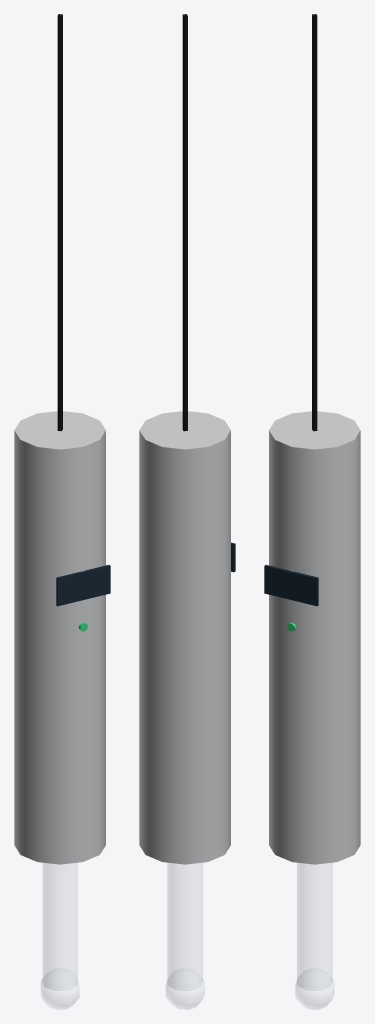
File: probe-ph-ec-pen--ph.glb
3 views of the same model, side by side, from view 1: azimuth 30°, elevation 25°; view 2: azimuth 150°, elevation 25°; view 3: azimuth 330°, elevation 25° (orthographic).
Parts seen in each view (by area): view 1: pen_body, pen_tip, pen_cable, pen_display; view 2: pen_body, pen_tip, pen_cable; view 3: pen_body, pen_tip, pen_cable, pen_display.
Boxes of the visible parts, box(x1,y1,x2,y2) form: pen_body: box(14, 411, 105, 864); pen_tip: box(41, 863, 79, 1009); pen_cable: box(57, 14, 62, 431); pen_display: box(56, 565, 110, 606); pen_body: box(139, 411, 230, 864); pen_tip: box(166, 863, 204, 1009); pen_cable: box(182, 14, 187, 431); pen_body: box(269, 411, 360, 864); pen_tip: box(295, 863, 333, 1009); pen_cable: box(312, 14, 317, 431); pen_display: box(264, 565, 318, 606).
Size of the model in its own units: 0.03 by 0.359 by 0.0307.
